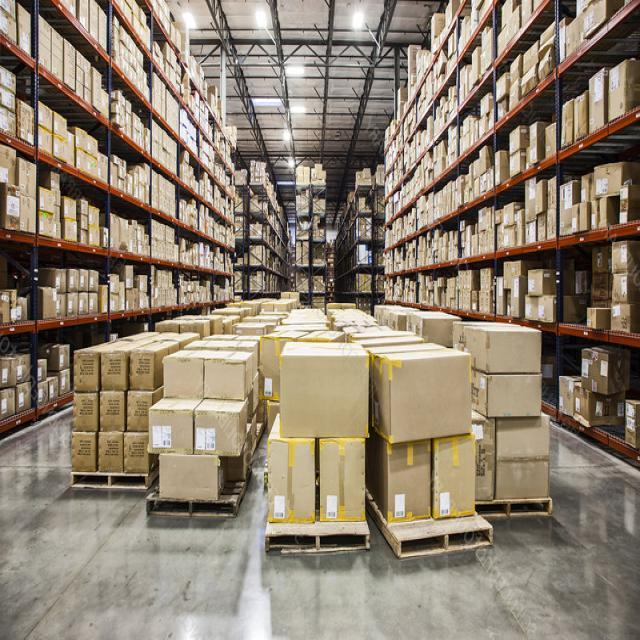box: (280, 356, 371, 439), (389, 353, 469, 441), (495, 418, 549, 502), (320, 442, 365, 524), (553, 376, 623, 428), (433, 439, 475, 517), (388, 443, 430, 518), (194, 402, 248, 453), (158, 458, 227, 496), (484, 328, 543, 371), (484, 375, 541, 418), (203, 352, 252, 397), (162, 352, 203, 397), (582, 354, 631, 391), (608, 61, 639, 118), (148, 413, 192, 451), (124, 434, 149, 476), (101, 352, 126, 392), (589, 68, 604, 132), (129, 352, 153, 389), (561, 180, 577, 235), (125, 393, 150, 428), (74, 354, 96, 391), (73, 395, 96, 430), (98, 434, 121, 469), (594, 167, 621, 196), (71, 437, 95, 469), (100, 394, 121, 429), (4, 189, 20, 229), (19, 164, 37, 198), (17, 105, 34, 140), (527, 270, 549, 296), (610, 304, 630, 332), (624, 403, 637, 443), (5, 187, 18, 227), (612, 242, 629, 272), (575, 92, 586, 138), (509, 126, 527, 153), (0, 358, 16, 387), (613, 274, 628, 302), (586, 309, 608, 328), (563, 99, 572, 145), (17, 384, 31, 412), (511, 275, 520, 317), (0, 390, 13, 418), (59, 344, 72, 369), (17, 355, 31, 378), (53, 117, 69, 136), (72, 131, 87, 151), (496, 277, 504, 314), (59, 370, 71, 394), (39, 103, 51, 127), (529, 122, 536, 161), (63, 200, 77, 219), (77, 294, 89, 314), (68, 271, 78, 292), (55, 270, 65, 291), (78, 271, 88, 290), (89, 293, 98, 313), (88, 271, 98, 288), (37, 360, 45, 380)
